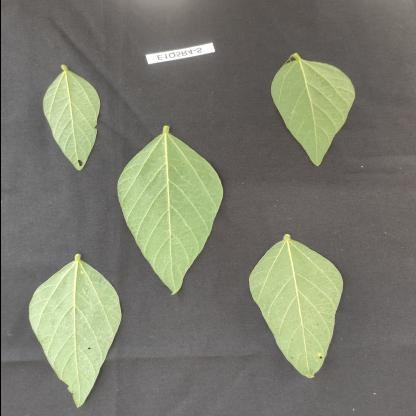label: (138, 40, 218, 68)
leaflets: (244, 207, 358, 390), (104, 128, 229, 294), (5, 250, 117, 416), (264, 31, 364, 172), (34, 52, 107, 174)
